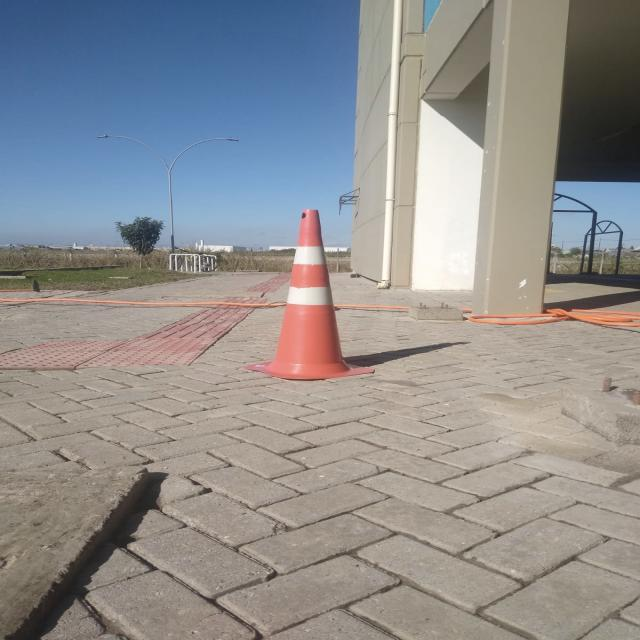cone: (240, 208, 376, 380)
